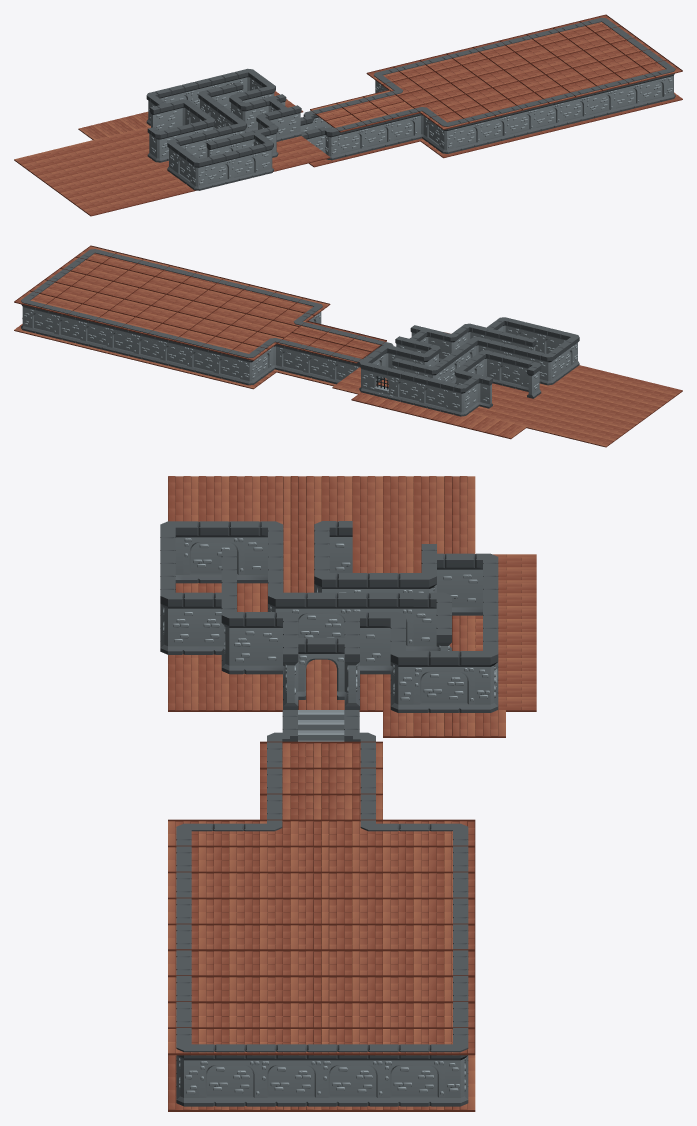
File: LevelOneFinalTest.fbx
3 renders of one model, top to bottom at view 1: azimuth 30°, elevation 25°; view 2: azimuth 150°, elevation 25°; view 3: azimuth 270°, elevation 25°, orthographic. The views are drawn at different scales.
Visible parts, largest first — view 1: floor_wood_large.010, floor_wood_large.011, wall_arched.001, wall_doorway_sides.002, wall_arched.024, floor_wood_large.005, wall_arched.025, wall_arched.023, floor_wood_large.015, wall_arched.006, wall_arched.011, wall_arched.005 (+26 smaller); view 2: floor_wood_large.010, floor_wood_large.011, wall_arched.024, wall_arched.001, floor_wood_large.005, floor_wood_large.015, wall_arched.016, wall_arched.027, wall_arched.015, wall_archedwindow_gated.001, wall_arched.002, wall_arched.003 (+28 smaller); view 3: floor_wood_large.010, floor_wood_large.011, wall_arched.014, wall_doorway_sides.002, wall_arched.007, wall_arched.024, wall_arched.001, wall_arched.022, floor_wood_large.012, floor_wood_large.009, floor_wood_large.005, floor_wood_large.006 (+22 smaller).
Boxes of the visible parts, x1,y1,x2,y2 form: floor_wood_large.010: (366,14,682,129); floor_wood_large.011: (14,126,330,216); wall_arched.001: (451,70,667,152); wall_doorway_sides.002: (256,94,301,141); wall_arched.024: (382,19,598,74); floor_wood_large.005: (419,92,682,158); wall_arched.025: (229,145,259,182); wall_arched.023: (202,152,232,188); floor_wood_large.015: (78,115,146,139); wall_arched.006: (336,121,365,158); wall_arched.011: (389,108,418,145); wall_arched.005: (362,115,391,151); floor_wood_large.010: (14,245,330,360); floor_wood_large.011: (376,332,682,447); wall_arched.024: (29,301,245,383); wall_arched.001: (98,250,314,305); floor_wood_large.005: (14,324,277,389); floor_wood_large.015: (457,414,526,439); wall_arched.016: (420,376,450,412); wall_arched.027: (496,353,525,390); wall_arched.015: (394,370,424,406); wall_archedwindow_gated.001: (367,363,397,400); wall_arched.002: (278,339,307,376); wall_arched.003: (305,346,334,382); floor_wood_large.010: (168,819,475,1055); floor_wood_large.011: (168,476,475,711); wall_arched.014: (199,1044,445,1106); wall_doorway_sides.002: (283,628,359,709); wall_arched.007: (413,651,474,712); wall_arched.024: (453,833,468,1092); wall_arched.001: (176,833,191,1092); wall_arched.022: (183,521,244,583); floor_wood_large.012: (383,710,505,737); floor_wood_large.009: (260,741,382,769); floor_wood_large.005: (168,1055,475,1111); floor_wood_large.006: (260,793,382,821).
Size of the model in its own units: 89 by 8.15 by 24.49.
10 materials, 10 textured.
